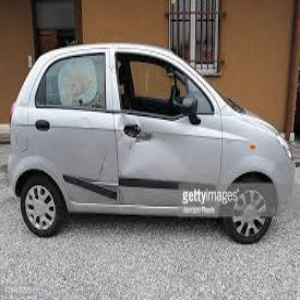door: (80, 121, 153, 198)
